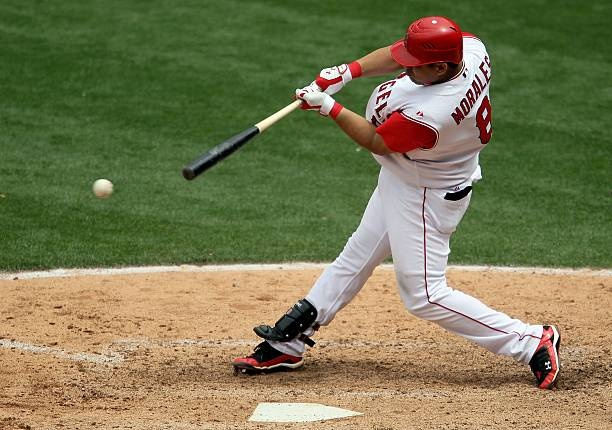bita: (181, 89, 318, 180)
